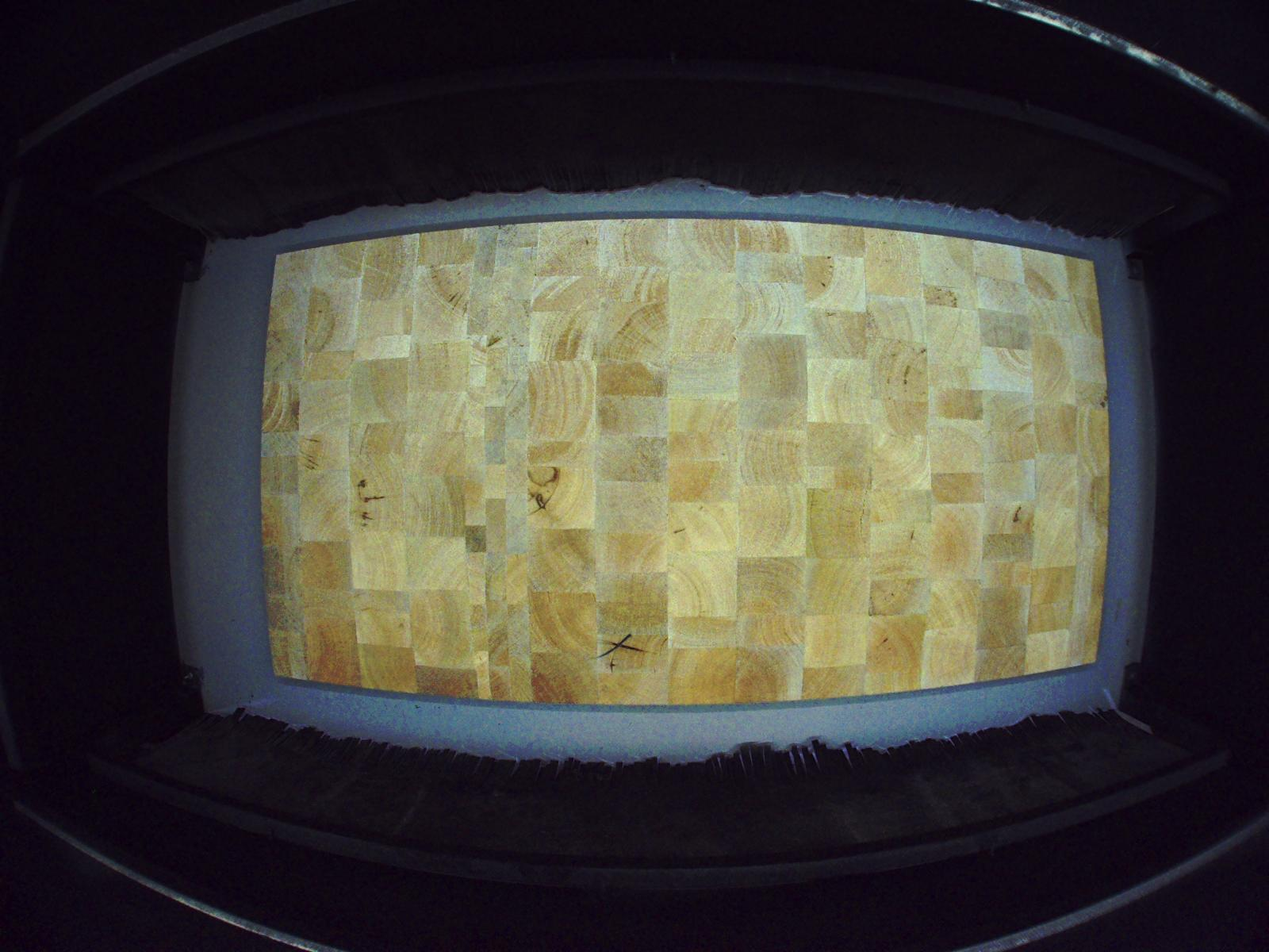sheck_ecuatoriano: (609, 652, 617, 673)
